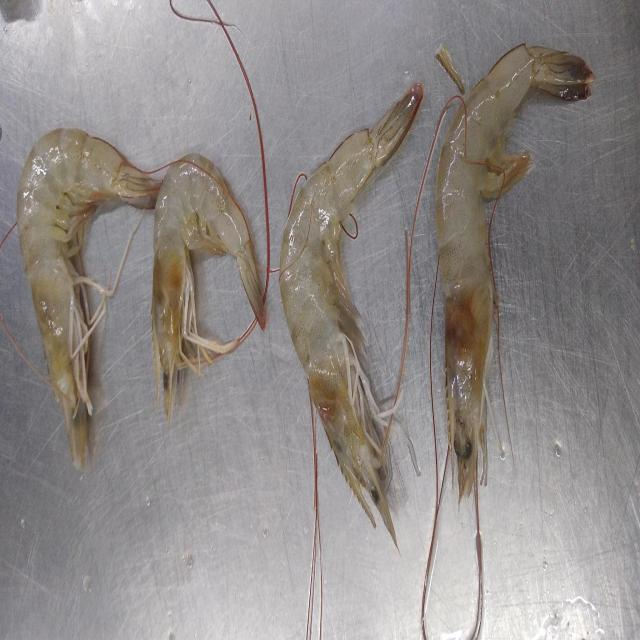shrimp: (435, 44, 595, 500), (280, 82, 424, 544), (18, 129, 161, 469), (151, 153, 265, 424)
